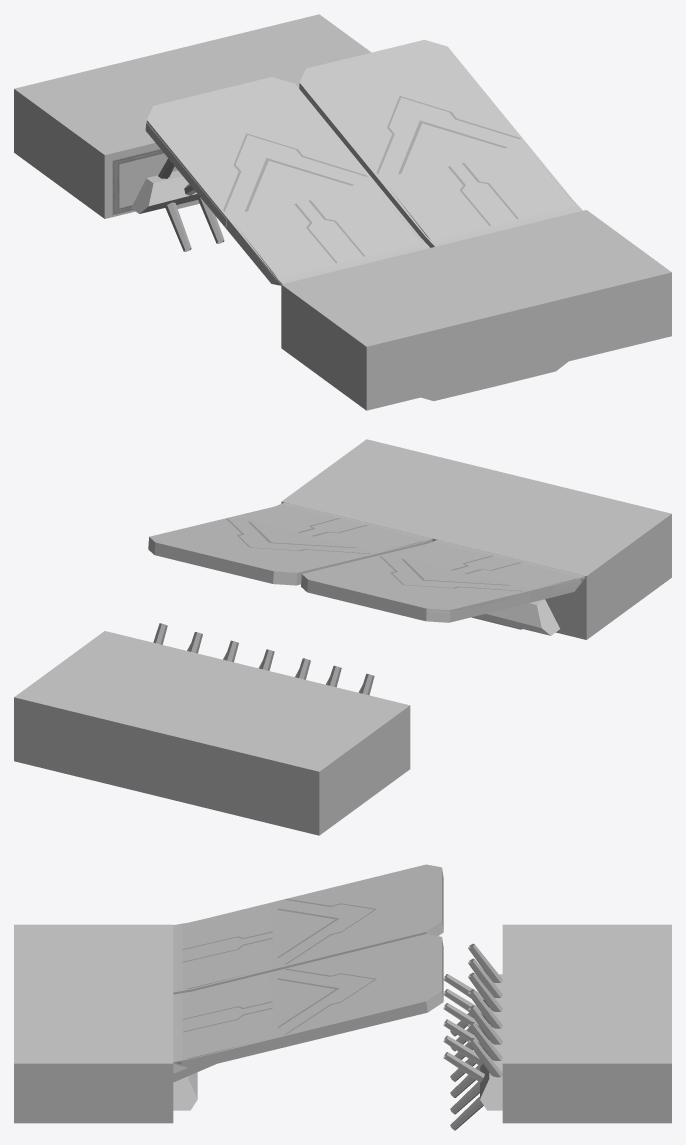
File: GoodRampBadRamp.fbx
The picture shows the model from 3 angles, top to bottom: view 1: azimuth 30°, elevation 25°; view 2: azimuth 150°, elevation 25°; view 3: azimuth 270°, elevation 25°; orthographic projection. The views are drawn at different scales.
Visible parts, largest first — view 1: RoadForRamps, RampCollission01, RampCollission02, Ramp02, Ramp01, Lasers; view 2: RoadForRamps, RampCollission02, RampCollission01, Ramp02, Ramp01, Lasers; view 3: RoadForRamps, RampCollission01, RampCollission02, Ramp01, Ramp02, Lasers.
Boxes of the visible parts, x1,y1,x2,y2 form: RoadForRamps: [14, 14, 671, 410]; RampCollission01: [299, 39, 582, 247]; RampCollission02: [146, 77, 429, 285]; Ramp02: [145, 122, 422, 284]; Ramp01: [376, 96, 576, 240]; Lasers: [158, 158, 224, 251]; RoadForRamps: [14, 439, 671, 835]; RampCollission02: [301, 540, 585, 622]; RampCollission01: [148, 502, 432, 585]; Ramp02: [380, 542, 585, 621]; Ramp01: [226, 505, 425, 553]; Lasers: [153, 623, 374, 695]; RoadForRamps: [14, 924, 671, 1123]; RampCollission01: [173, 934, 443, 1069]; RampCollission02: [173, 864, 443, 994]; Ramp01: [173, 969, 427, 1082]; Ramp02: [173, 899, 376, 994]; Lasers: [443, 943, 502, 1130].
Size of the model in its own units: 5 by 2.56 by 10.
